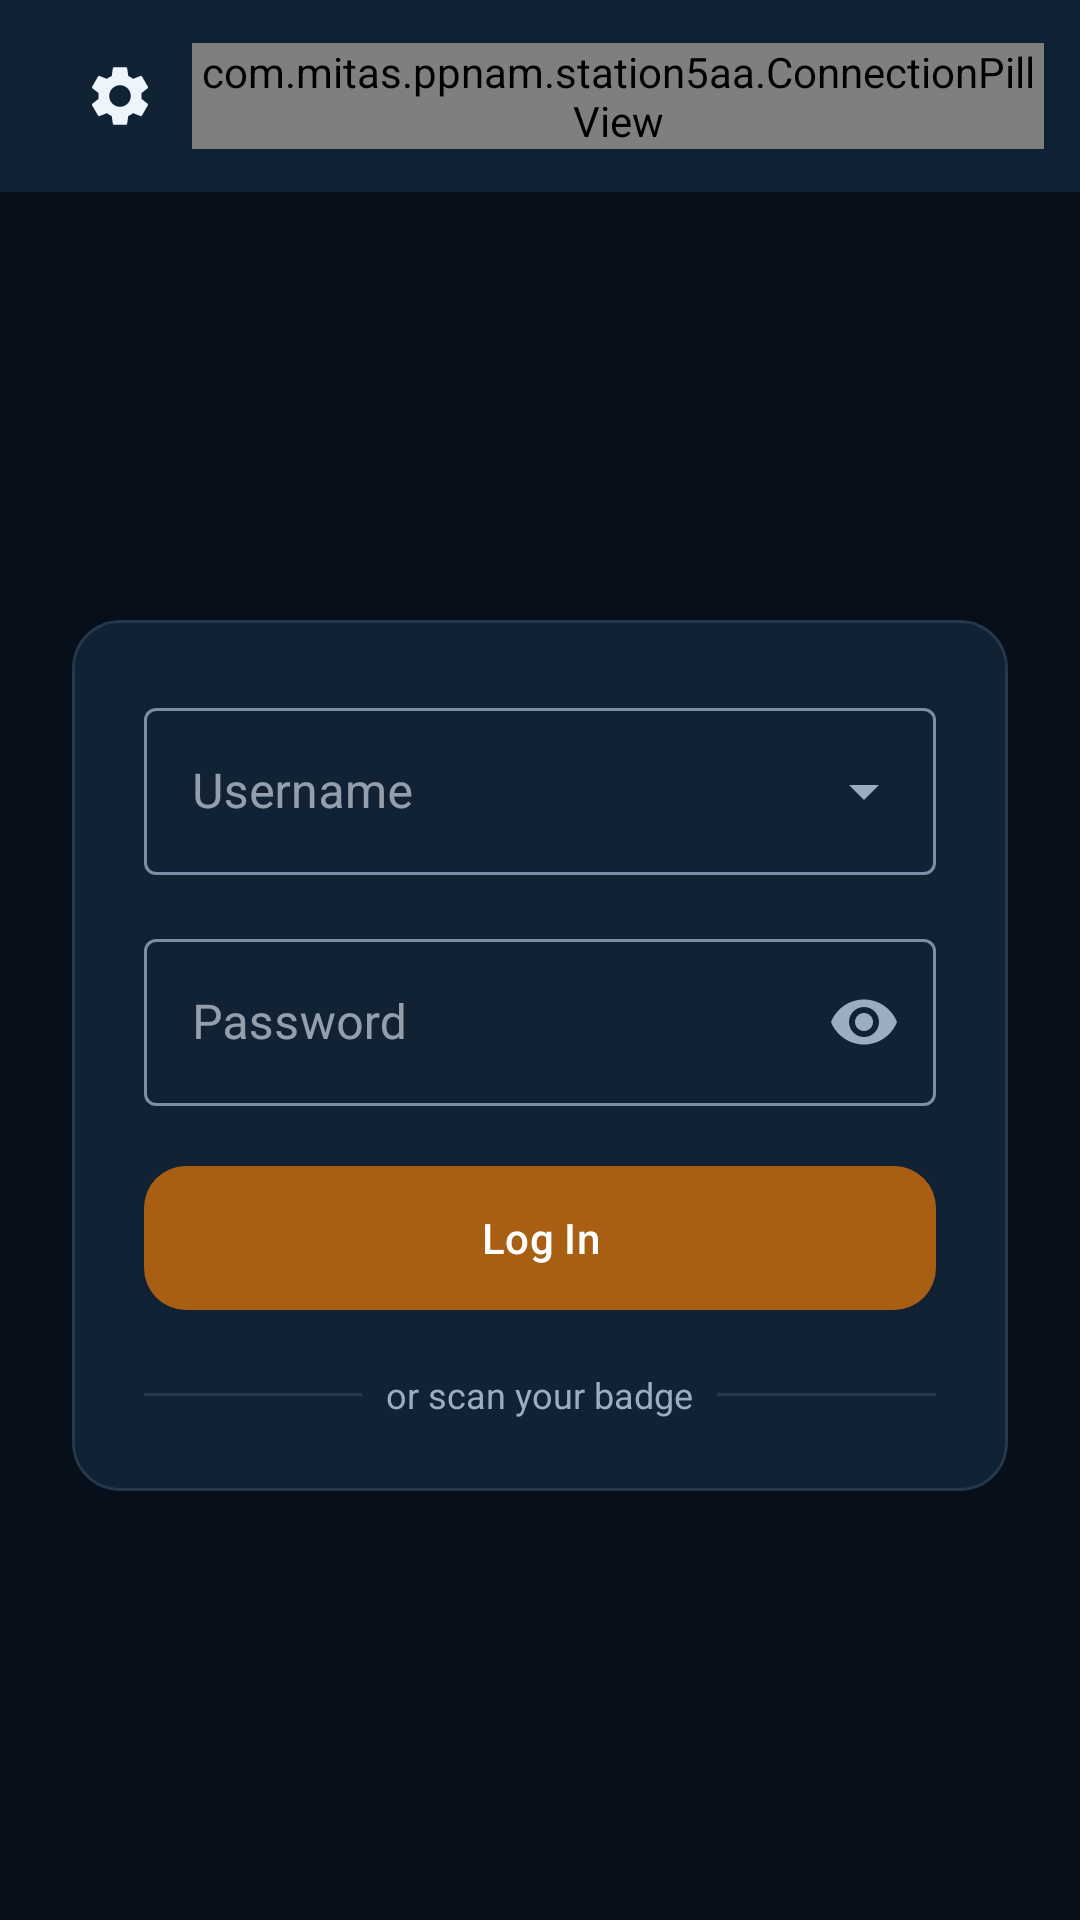

Icon bounding boxes for this 1080 x 1920 phone screenshot, format bbox=(x1, y1, x2, y2):
Settings: bbox=(92, 67, 148, 125)
